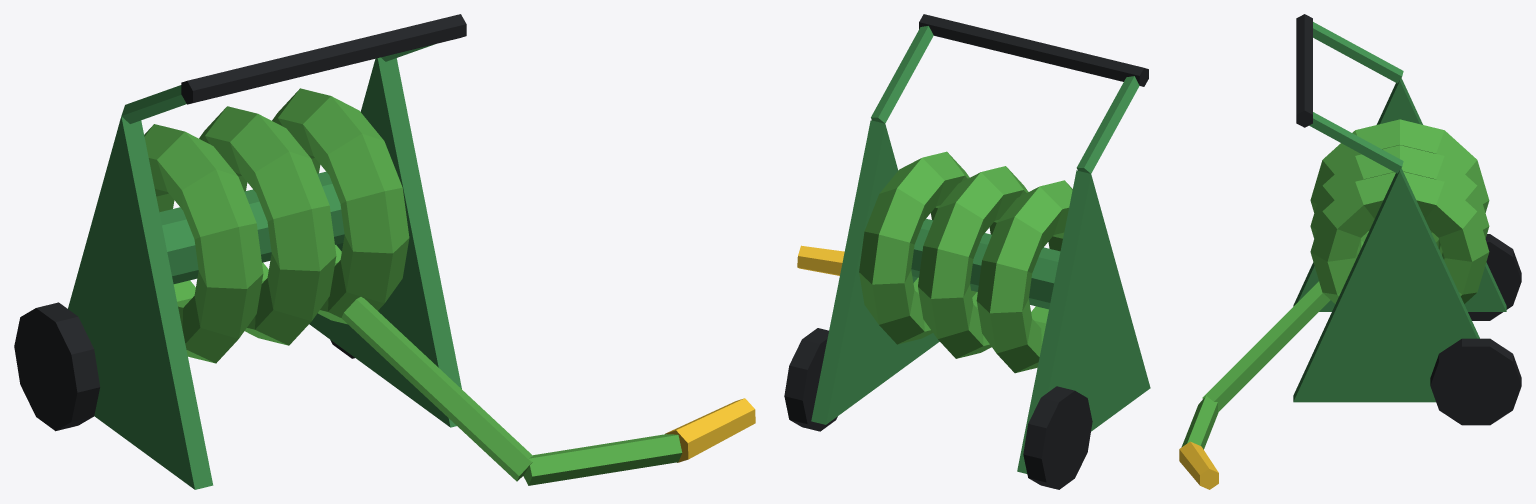
The model's file is prop_hose_reel.glb.
3 views of the same model, side by side, from view 1: azimuth 30°, elevation 25°; view 2: azimuth 150°, elevation 25°; view 3: azimuth 270°, elevation 25° (orthographic). The views are drawn at different scales.
Visible parts, largest first — view 1: prop_hose_reel; view 2: prop_hose_reel; view 3: prop_hose_reel.
Part boxes in pixels (<box>): prop_hose_reel: <box>14,14,755,489</box>; prop_hose_reel: <box>784,14,1150,489</box>; prop_hose_reel: <box>1179,14,1521,489</box>.
Bounding box in the file's own units: 1.14 × 0.8899 × 0.8996.
